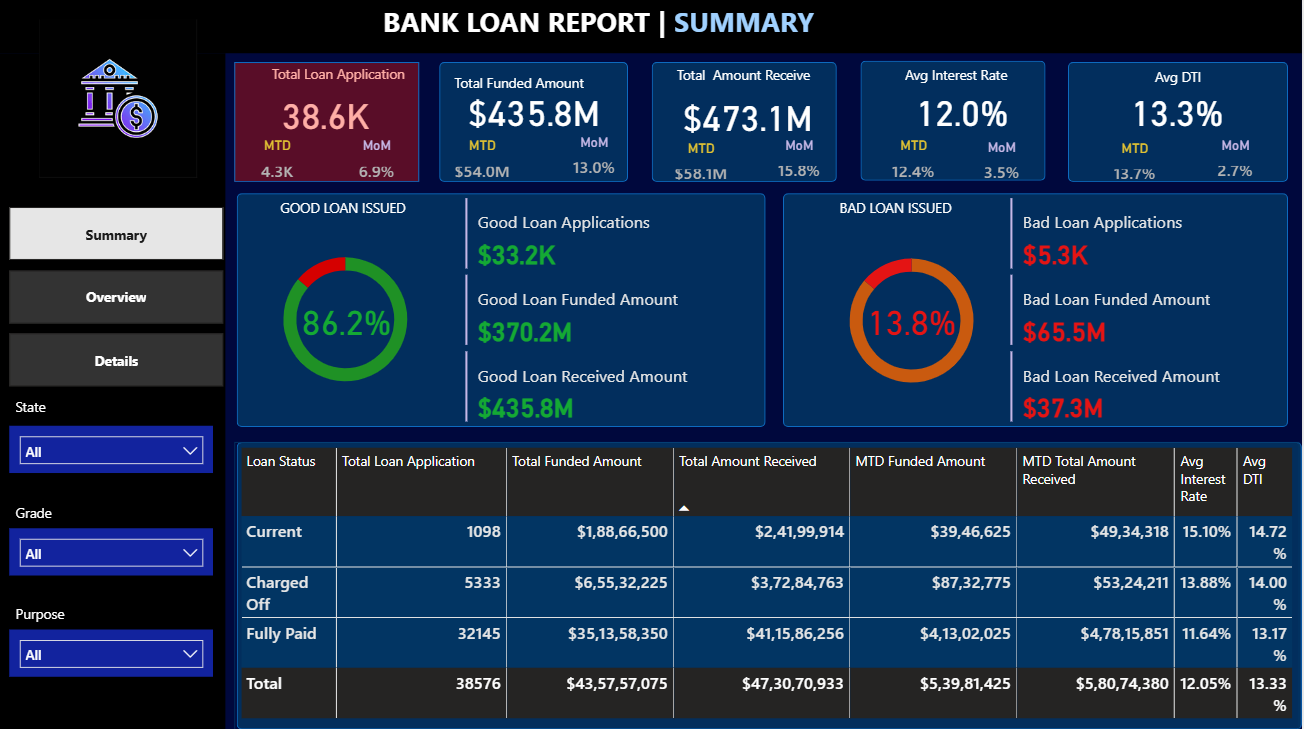

The dashboard page shown, as its layout file describes it:
{"tool":"tableau","page":{"name":"SUMMARY","canvas":[1600,900],"ordinal":2},"visuals":[{"type":"image","param":"Image/Tableau Background 1.jpg","box":[8,8,1584,884]},{"type":"text","box":[511,21,660,50]},{"type":"image","param":"Image/ChatGPT Image Nov 18, 2025, 10_52_47 PM.png","box":[32,77,213,202]},{"type":"worksheet","title":"Avg DTI","mark":"Automatic","box":[1325,95,241,84]},{"type":"worksheet","title":"Total Funded Amount","mark":"Automatic","box":[524,96,249,91]},{"type":"worksheet","title":"Total Amount Received","mark":"Automatic","box":[788,96,253,86]},{"type":"worksheet","title":"Avg Interest Rate","mark":"Automatic","box":[1067,96,222,85]},{"type":"worksheet","title":"total Loan Application","mark":"Automatic","box":[267,98,246,85]},{"type":"text","box":[292,184,67,25]},{"type":"text","box":[399,184,67,25]},{"type":"text","box":[561,184,67,25]},{"type":"text","box":[1076,184,67,25]},{"type":"text","box":[1212,184,67,25]},{"type":"text","box":[1339,184,67,25]},{"type":"text","box":[1485,184,67,25]},{"type":"text","box":[932,185,67,25]},{"type":"text","box":[667,186,67,25]},{"type":"text","box":[817,186,67,25]},{"type":"worksheet","title":"MTD Total Funded Amount","mark":"Automatic","box":[551,201,95,36]},{"type":"worksheet","title":"MoM Total Amount Received","mark":"Automatic","box":[926,205,79,32]},{"type":"worksheet","title":"MTD Avg DTI","mark":"Automatic","box":[1336,205,84,34]},{"type":"worksheet","title":"MTD Total Loan Applications","mark":"Automatic","box":[303,206,48,34]},{"type":"worksheet","title":"MoM Total Funded Amount","mark":"Automatic","box":[671,206,66,29]},{"type":"worksheet","title":"MoM Avg DTI","mark":"Automatic","box":[1494,206,60,34]},{"type":"worksheet","title":"MTD Total  Amount Received","mark":"Automatic","box":[808,207,86,35]},{"type":"worksheet","title":"MTD Avg Int Rate","mark":"Automatic","box":[1075,211,71,29]},{"type":"worksheet","title":"MoM Avg Int Rate","mark":"Automatic","box":[1211,211,76,30]},{"type":"worksheet","title":"MoM  Loan Applications","mark":"Automatic","box":[405,212,59,23]},{"type":"worksheet","title":"Bad Loan Issued","mark":"Pie","rows":["Calculation_1475210361257676801","Calculation_1475210361257676801"],"box":[929,268,280,326]},{"type":"worksheet","title":"Good Loan Issued","mark":"Pie","rows":["Calculation_1475210361257676801","Calculation_1475210361257676801"],"box":[264,269,302,329]},{"type":"dashboard-object","box":[38,273,199,37]},{"type":"worksheet","title":"Bad Loan Applications ","mark":"Automatic","box":[1209,282,350,77]},{"type":"worksheet","title":"Good Loan Applications","mark":"Automatic","box":[573,283,335,97]},{"type":"dashboard-object","box":[38,323,199,37]},{"type":"dashboard-object","box":[38,370,199,37]},{"type":"worksheet","title":"Bad Loan Total Funded Amount","mark":"Automatic","box":[1213,373,350,85]},{"type":"worksheet","title":"Good Loan Funded Amount","mark":"Automatic","box":[573,385,330,91]},{"type":"worksheet","title":"Bad Loan %","mark":"Automatic","box":[1018,422,109,53]},{"type":"worksheet","title":"Good Loan Application %","mark":"Automatic","box":[361,428,118,39]},{"type":"worksheet","title":"Good Loan Amount Received","mark":"Automatic","box":[574,473,332,103]},{"type":"worksheet","title":"Bad Loan Amount Received ","mark":"Automatic","box":[1215,486,350,85]},{"type":"filter","title":"Good Loan Issued","param":"[federated.0aabd9g1kkgmq71fx79v50xedflh].[none:purpose:nk]","box":[35,564,207,50]},{"type":"worksheet","title":"LOAN STATUS","mark":"Automatic","rows":["loan_status"],"box":[266,614,1300,265]},{"type":"filter","title":"Good Loan Issued","param":"[federated.0aabd9g1kkgmq71fx79v50xedflh].[none:grade:nk]","box":[35,634,209,47]},{"type":"filter","title":"Good Loan Issued","param":"[federated.0aabd9g1kkgmq71fx79v50xedflh].[none:verification_status:nk]","box":[33,711,210,50]}]}

Visuals, with their boxes in screenshot pixels (x1, y1, x2, y2), scaled from the page's 1600x900 canvas onto the 1304x729 screenshot:
image: BBox(7, 6, 1297, 723)
text: BBox(416, 17, 954, 58)
image: BBox(26, 62, 200, 226)
"Avg DTI" worksheet: BBox(1080, 77, 1276, 145)
"Total Funded Amount" worksheet: BBox(427, 78, 630, 151)
"Total Amount Received" worksheet: BBox(642, 78, 848, 147)
"Avg Interest Rate" worksheet: BBox(870, 78, 1051, 147)
"total Loan Application" worksheet: BBox(218, 79, 418, 148)
text: BBox(238, 149, 293, 169)
text: BBox(325, 149, 380, 169)
text: BBox(457, 149, 512, 169)
text: BBox(877, 149, 932, 169)
text: BBox(988, 149, 1042, 169)
text: BBox(1091, 149, 1146, 169)
text: BBox(1210, 149, 1265, 169)
text: BBox(760, 150, 814, 170)
text: BBox(544, 151, 598, 171)
text: BBox(666, 151, 720, 171)
"MTD Total Funded Amount" worksheet: BBox(449, 163, 526, 192)
"MoM Total Amount Received" worksheet: BBox(755, 166, 819, 192)
"MTD Avg DTI" worksheet: BBox(1089, 166, 1157, 194)
"MTD Total Loan Applications" worksheet: BBox(247, 167, 286, 194)
"MoM Total Funded Amount" worksheet: BBox(547, 167, 601, 190)
"MoM Avg DTI" worksheet: BBox(1218, 167, 1267, 194)
"MTD Total  Amount Received" worksheet: BBox(659, 168, 729, 196)
"MTD Avg Int Rate" worksheet: BBox(876, 171, 934, 194)
"MoM Avg Int Rate" worksheet: BBox(987, 171, 1049, 195)
"MoM  Loan Applications" worksheet: BBox(330, 172, 378, 190)
"Bad Loan Issued" worksheet (Pie marks): BBox(757, 217, 985, 481)
"Good Loan Issued" worksheet (Pie marks): BBox(215, 218, 461, 484)
dashboard-object: BBox(31, 221, 193, 251)
"Bad Loan Applications " worksheet: BBox(985, 228, 1271, 291)
"Good Loan Applications" worksheet: BBox(467, 229, 740, 308)
dashboard-object: BBox(31, 262, 193, 292)
dashboard-object: BBox(31, 300, 193, 330)
"Bad Loan Total Funded Amount" worksheet: BBox(989, 302, 1274, 371)
"Good Loan Funded Amount" worksheet: BBox(467, 312, 736, 386)
"Bad Loan %" worksheet: BBox(830, 342, 919, 385)
"Good Loan Application %" worksheet: BBox(294, 347, 390, 378)
"Good Loan Amount Received" worksheet: BBox(468, 383, 738, 467)
"Bad Loan Amount Received " worksheet: BBox(990, 394, 1275, 463)
"Good Loan Issued" filter: BBox(29, 457, 197, 497)
"LOAN STATUS" worksheet: BBox(217, 497, 1276, 712)
"Good Loan Issued" filter: BBox(29, 514, 199, 552)
"Good Loan Issued" filter: BBox(27, 576, 198, 616)
